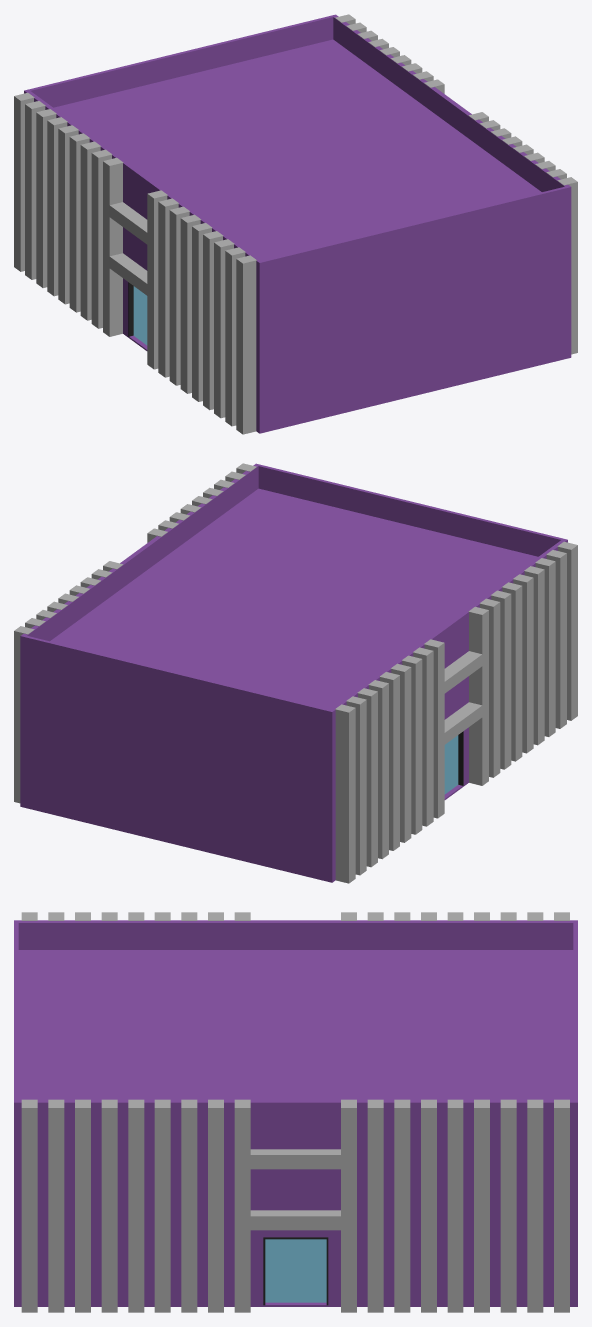
Rendered from OfficeFinal.fbx.
3 views of the same model, one above another, from view 1: azimuth 30°, elevation 25°; view 2: azimuth 150°, elevation 25°; view 3: azimuth 270°, elevation 25° (orthographic). The views are drawn at different scales.
Parts seen in each view (by area): view 1: pCube1246; view 2: pCube1246; view 3: pCube1246.
Part boxes in pixels (x1,y1,x2,y2): pCube1246: (14, 14, 577, 434); pCube1246: (14, 463, 577, 883); pCube1246: (14, 912, 577, 1312).
Size of the model in its own units: 69.61 by 34.03 by 84.79.
